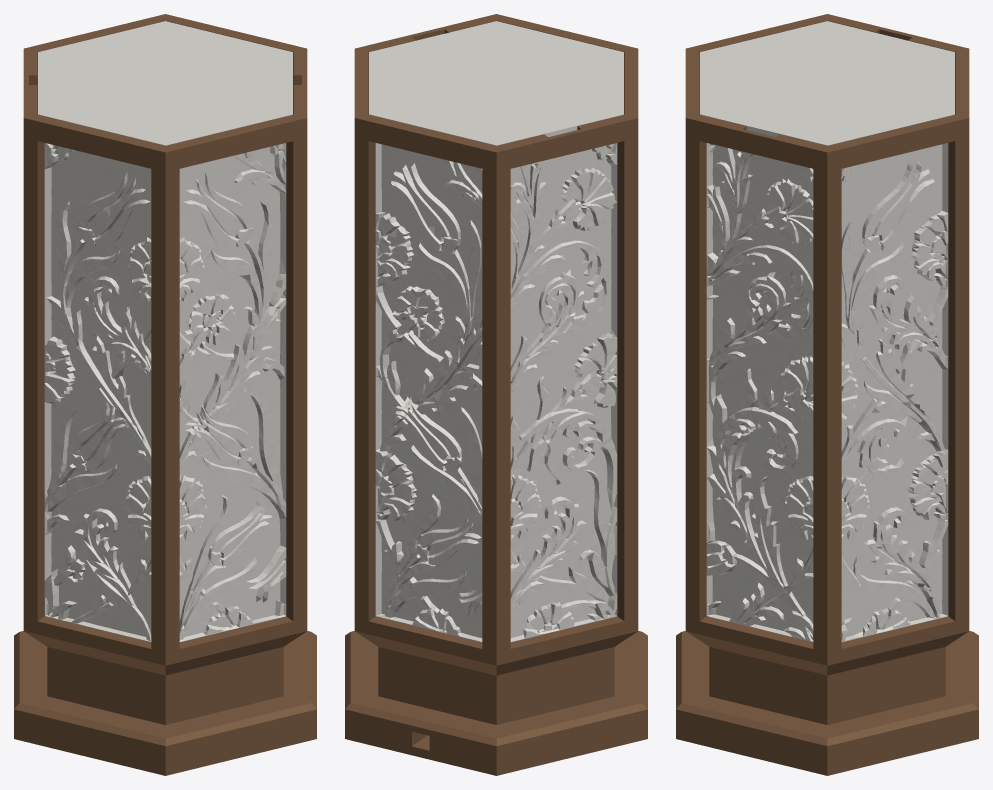
The model's file is H91-web.glb.
3 renders of one model, left to right at view 1: azimuth 30°, elevation 25°; view 2: azimuth 150°, elevation 25°; view 3: azimuth 270°, elevation 25°, orthographic.
Parts seen in each view (by area): view 1: H91-shade, H91-body; view 2: H91-shade, H91-body; view 3: H91-shade, H91-body.
Part boxes in pixels (x1,y1,x2,y2): H91-shade: (38,21,292,642); H91-body: (14,14,316,775); H91-shade: (369,21,623,642); H91-body: (345,14,647,775); H91-shade: (700,21,954,642); H91-body: (676,14,978,775).
Bounding box in the file's own units: 0.128 × 0.25 × 0.1109.
